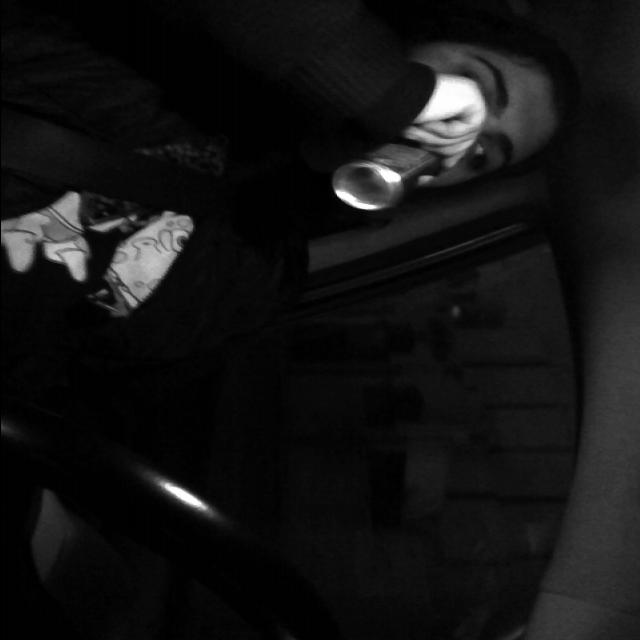drinking: (323, 114, 463, 222)
